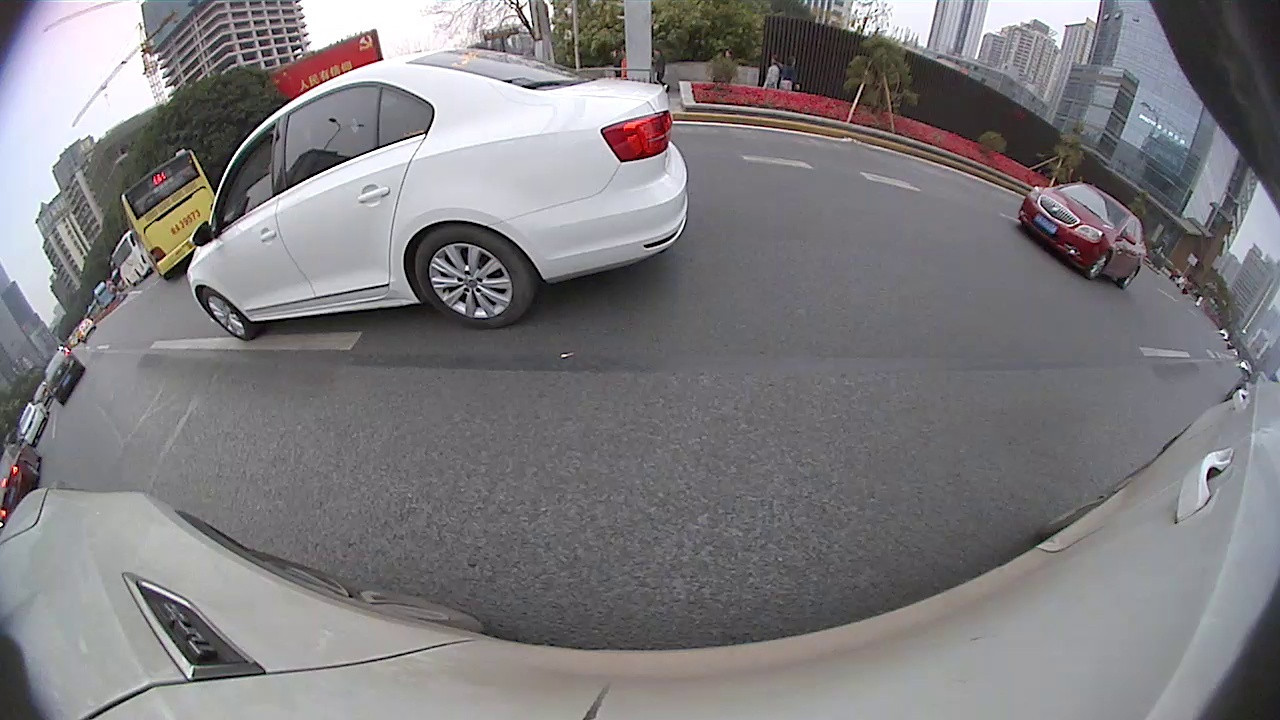bus: (121, 146, 223, 282), (108, 227, 152, 292)
car: (187, 44, 691, 343), (1016, 179, 1147, 290), (3, 444, 43, 528), (43, 347, 90, 404), (18, 402, 50, 446)
front: (196, 285, 255, 342), (1086, 251, 1111, 283)
rear: (410, 219, 536, 330), (1121, 262, 1140, 287)
